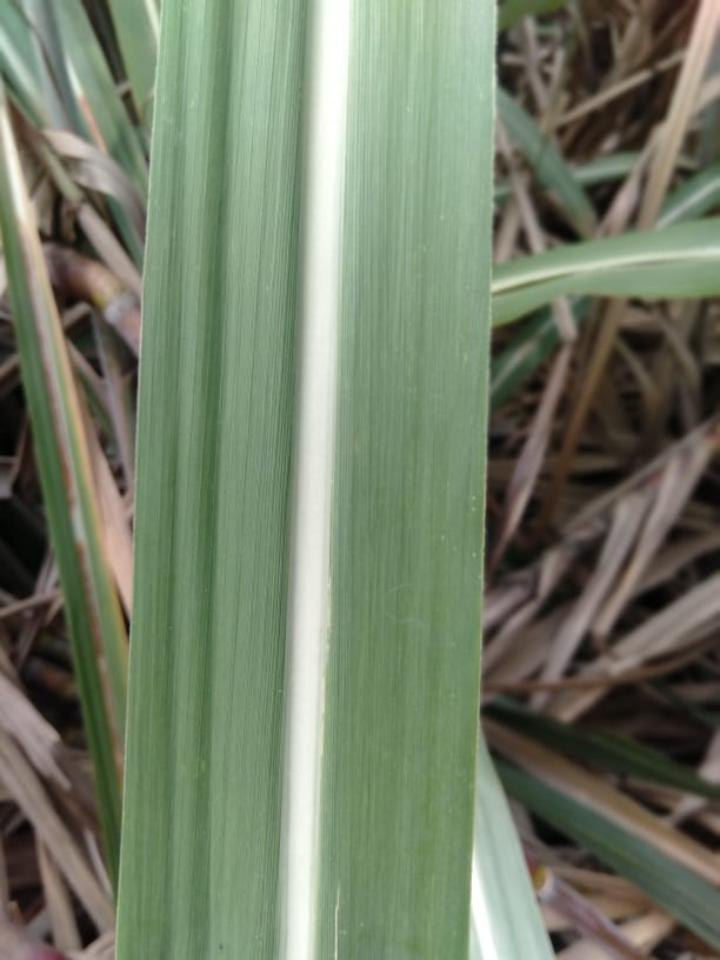Healthy: (114, 0, 495, 959), (468, 726, 556, 959)
RedRot: (42, 362, 77, 513), (74, 539, 104, 662), (102, 668, 124, 791), (19, 229, 34, 302), (33, 308, 44, 358)
Yellow: (31, 235, 130, 698)
